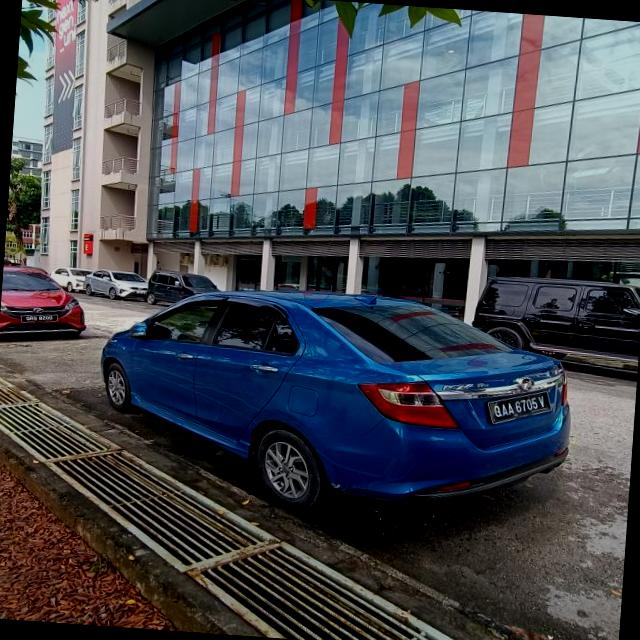PeroduaBezza: (90, 273, 580, 530)
